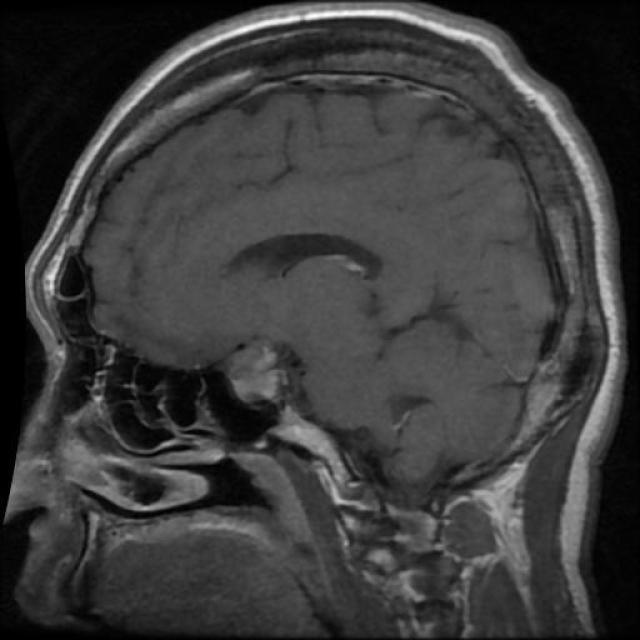pituitary: (216, 335, 300, 423)
